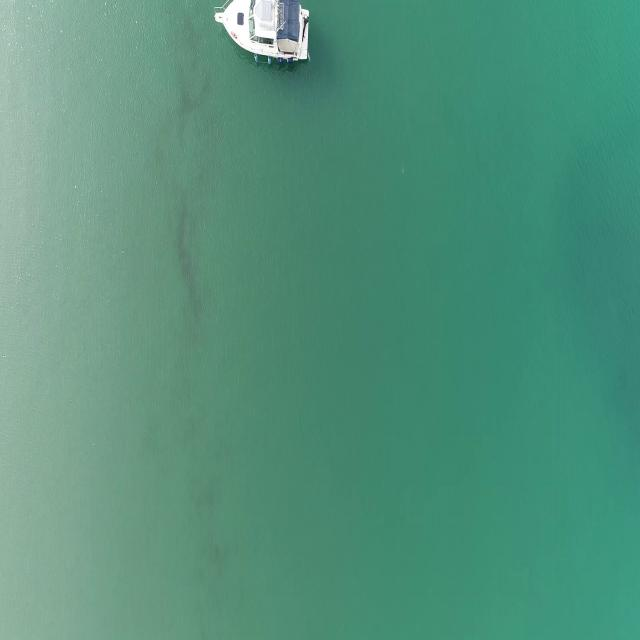boat: (213, 0, 310, 72)
